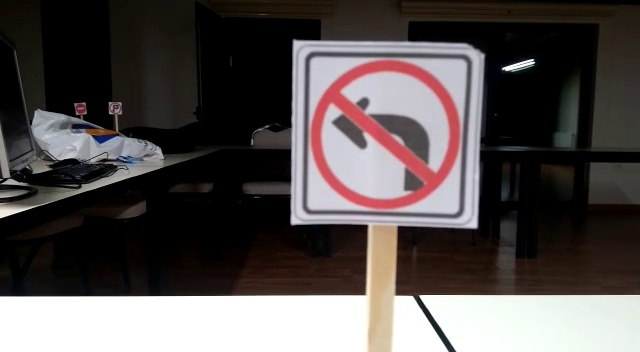sola_donulmez: (297, 45, 477, 220)
